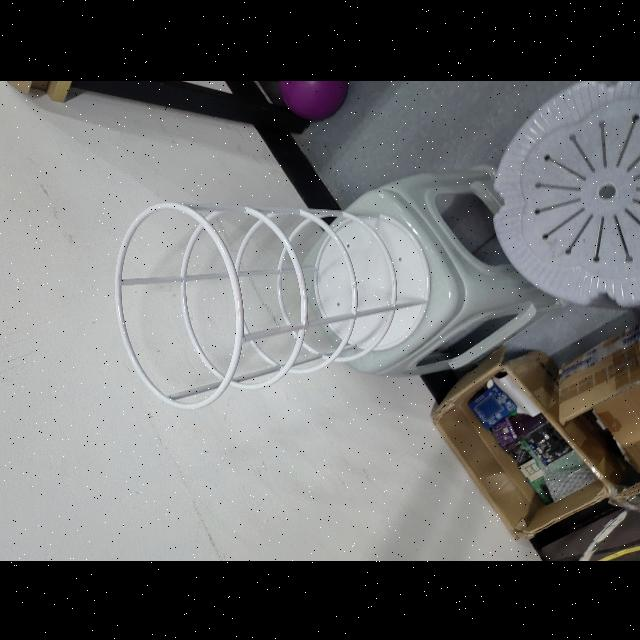S: (110, 195, 434, 412)
